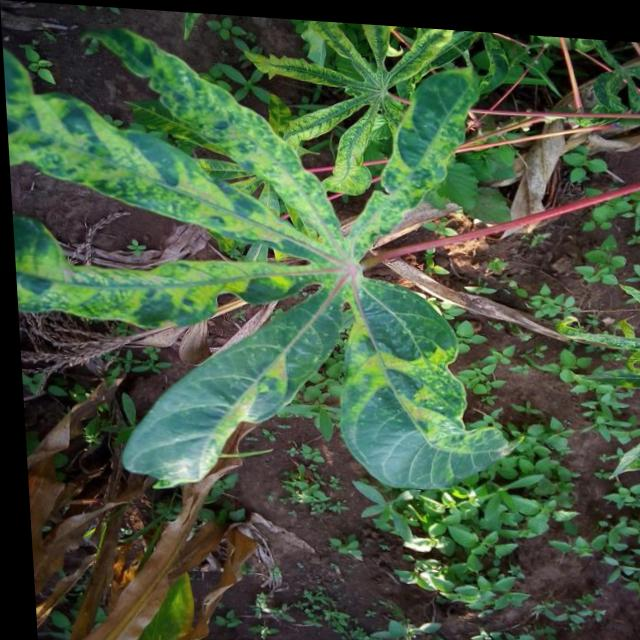Mosaico: (7, 27, 515, 493)
